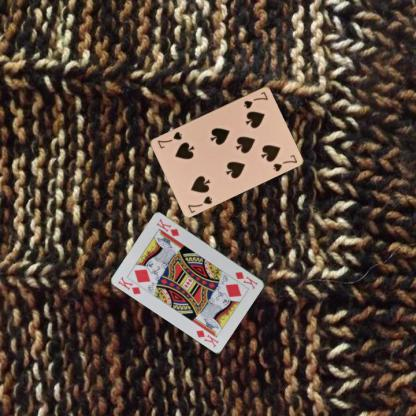7s: (185, 193, 214, 214), (241, 89, 269, 110)
Kd: (233, 268, 259, 290), (116, 274, 142, 296)
